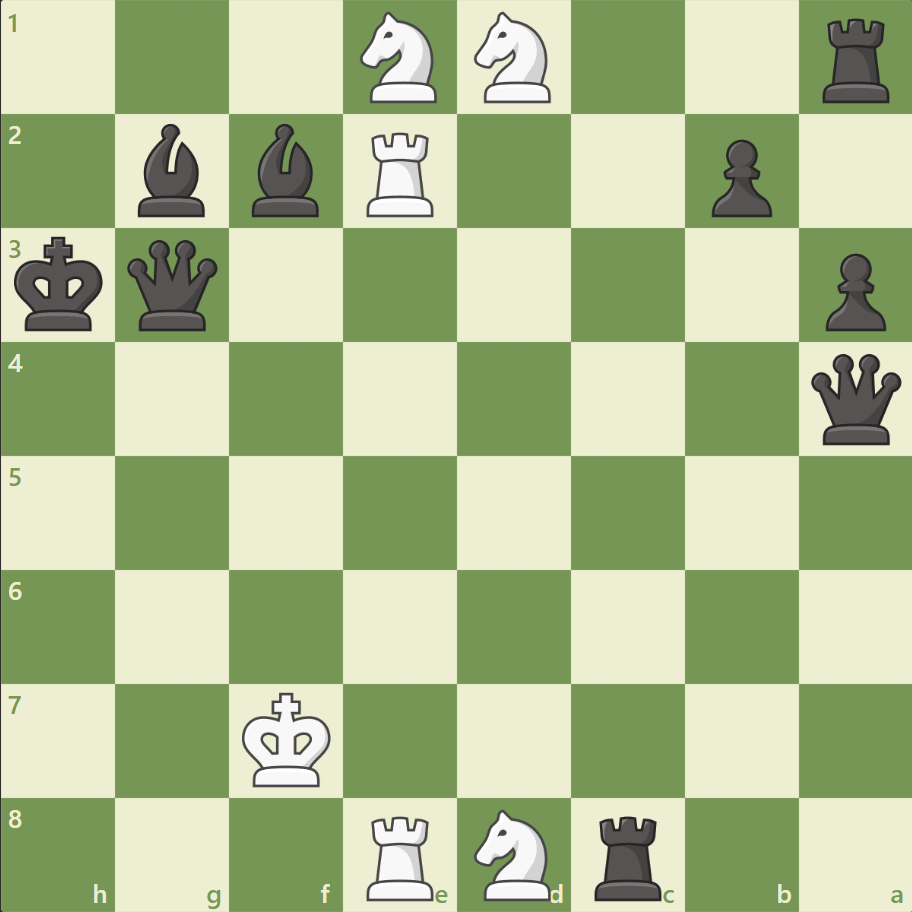K: (238, 685, 338, 793)
N: (351, 7, 449, 110), (465, 7, 562, 110), (465, 802, 562, 904)
R: (360, 806, 442, 904), (360, 125, 442, 222)
b: (244, 120, 328, 222), (131, 120, 215, 222)
k: (11, 231, 111, 339)
p: (701, 132, 776, 223), (815, 246, 889, 337)
q: (805, 349, 904, 449), (124, 236, 223, 335)
r: (587, 806, 670, 904), (814, 12, 897, 109)
